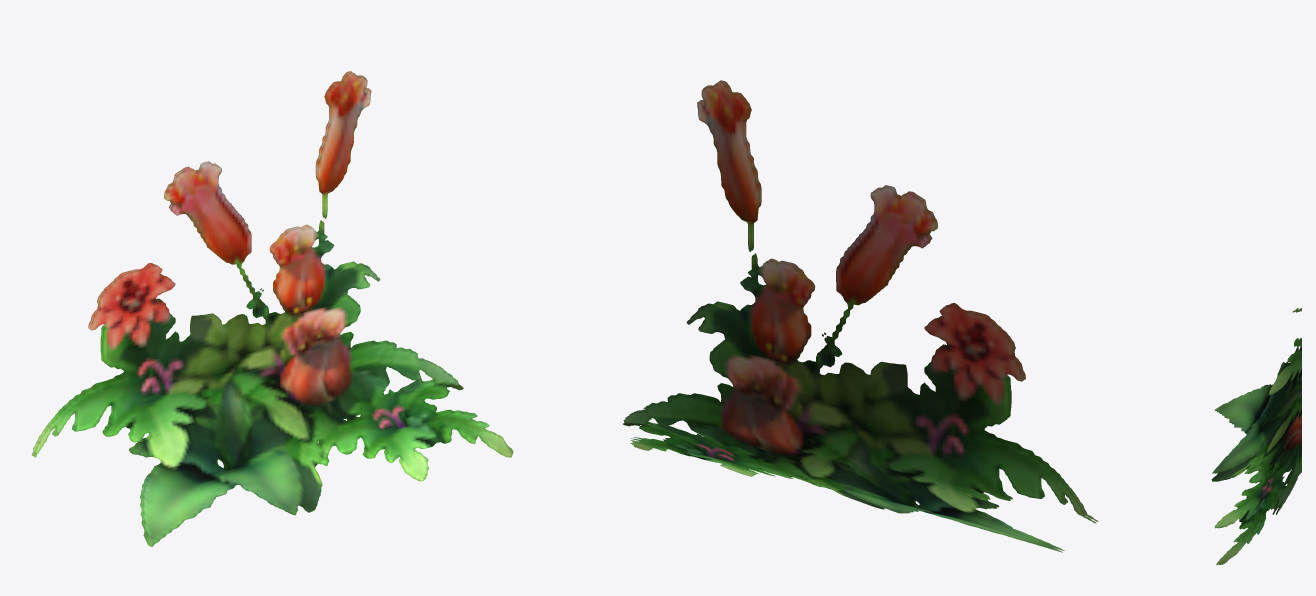
File: select_flower03.FBX
The picture shows the model from 3 angles, left to right: view 1: azimuth 30°, elevation 25°; view 2: azimuth 150°, elevation 25°; view 3: azimuth 270°, elevation 25°; orthographic projection. The views are drawn at different scales.
Visible parts, largest first — view 1: select_flower03; view 2: select_flower03; view 3: select_flower03.
Boxes of the visible parts, left/top/right/bottom form: select_flower03: left=31, top=71, right=513, bottom=546; select_flower03: left=623, top=80, right=1098, bottom=552; select_flower03: left=1211, top=308, right=1301, bottom=565.
Size of the model in its own units: 27.71 by 23.36 by 5.71.
